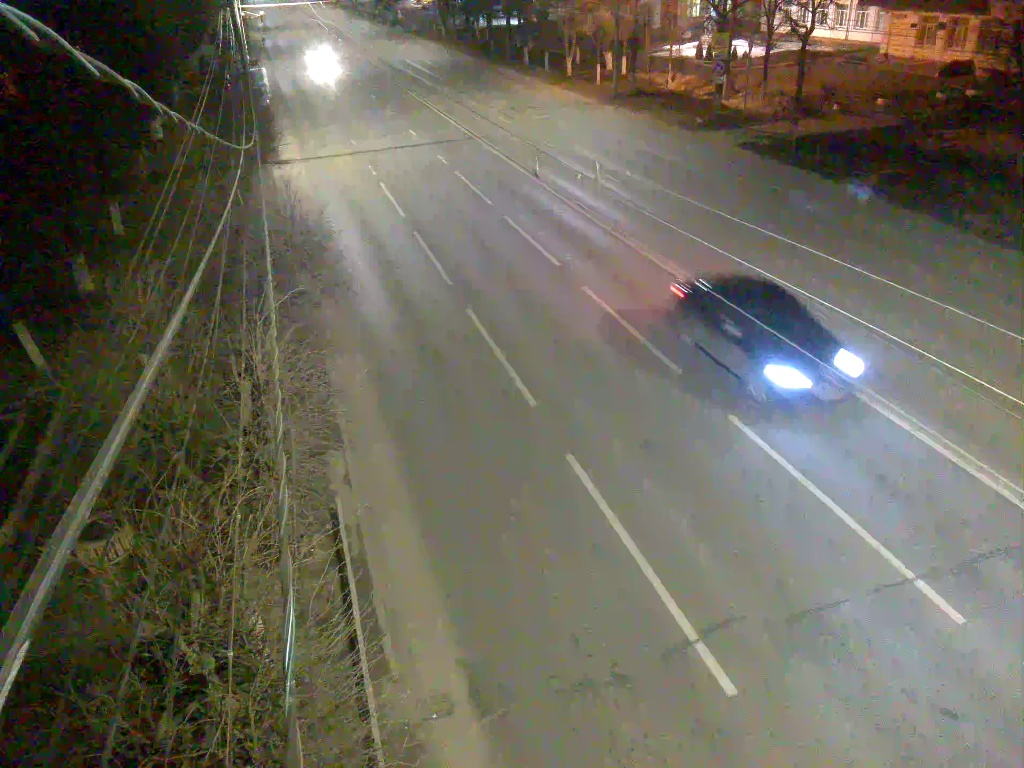car: (669, 268, 877, 418)
